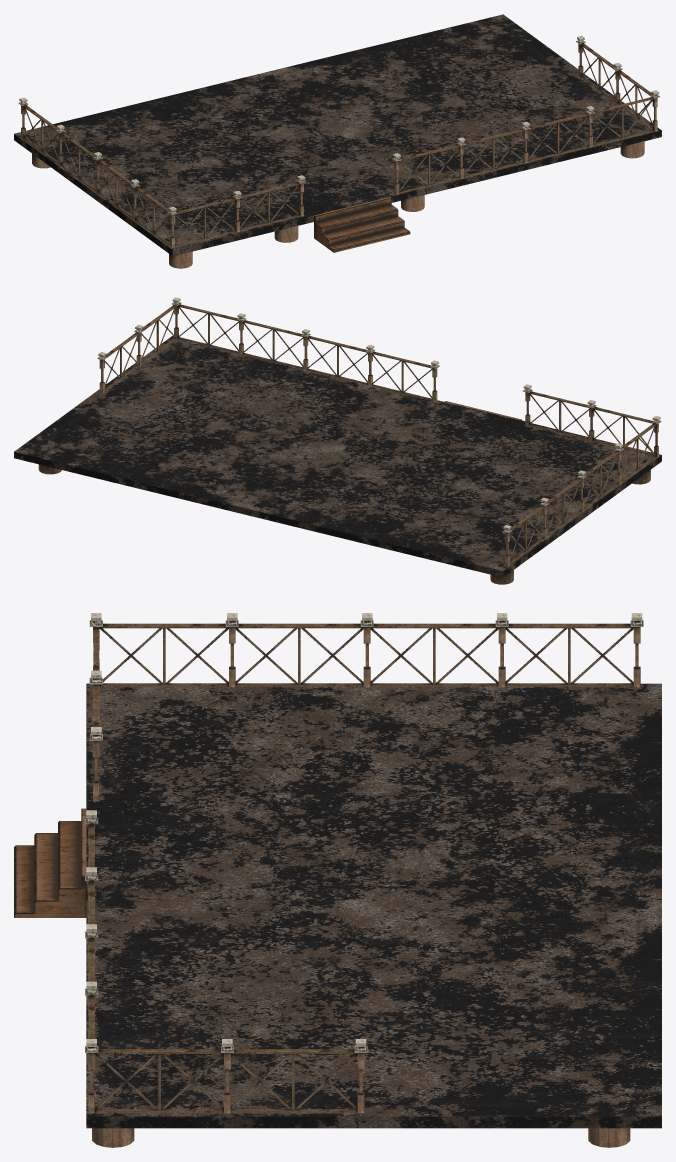
File: Workshop For Map.fbx
The picture shows the model from 3 angles, top to bottom: view 1: azimuth 30°, elevation 25°; view 2: azimuth 150°, elevation 25°; view 3: azimuth 270°, elevation 25°; orthographic projection. The views are drawn at different scales.
Parts seen in each view (by area): view 1: Null_1; view 2: Null_1; view 3: Null_1.
Part boxes in pixels (x1=…): Null_1: x1=14, y1=14, x2=661, y2=268; Null_1: x1=14, y1=297, x2=661, y2=584; Null_1: x1=14, y1=613, x2=661, y2=1147.
Size of the model in its own units: 1519 by 184 by 960.
